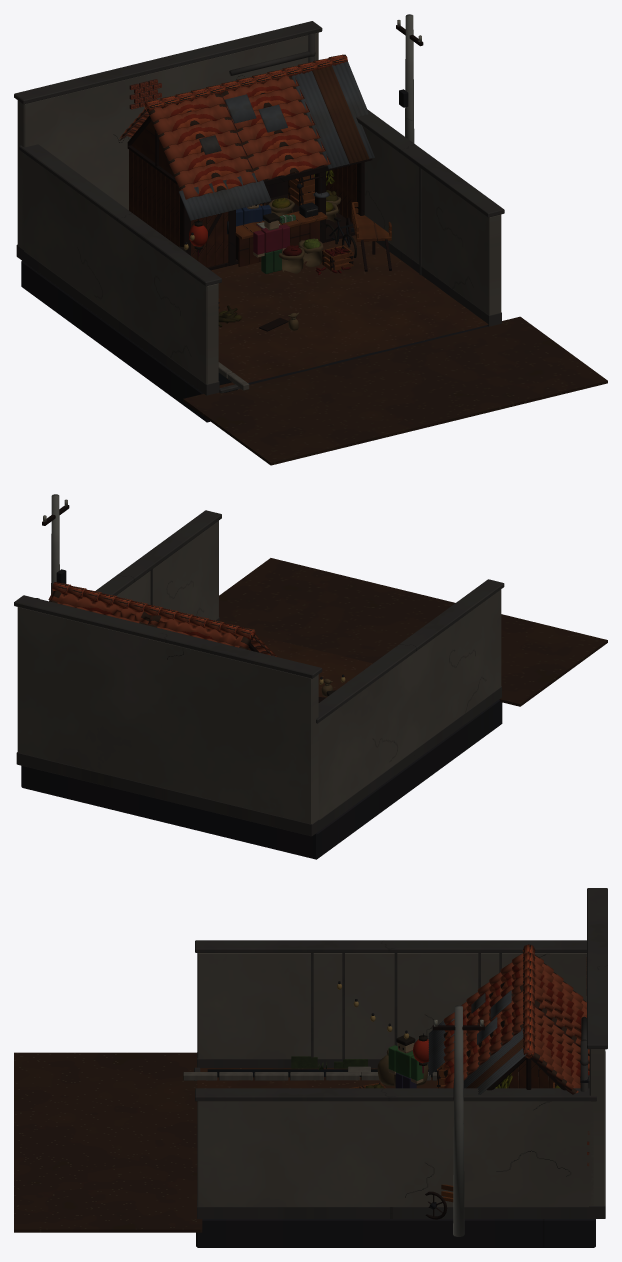
The model's file is TengkulakGelap.fbx.
3 renders of one model, top to bottom at view 1: azimuth 30°, elevation 25°; view 2: azimuth 150°, elevation 25°; view 3: azimuth 270°, elevation 25°, orthographic. The views are drawn at different scales.
Parts seen in each view (by area): view 1: Alley_Floor.001, G_Ground.001, G_WallWest.001, G_WallNorth.001, G_WallEast.001, G_Slab.001, G_WallNorth_cap.001, G_WallWest_cap.001, G_WallEast_cap.001, G_WallWest_grime.001, G_TileF5.001, G_TileF4.001 (+16 smaller); view 2: G_WallNorth.001, Alley_Floor.001, G_WallWest.001, G_Slab.001, G_WallEast.001, G_WallNorth_cap.001, G_WallNorth_grime.001, G_WallWest_cap.001, G_WallEast_cap.001, G_TileB0.001, G_Ground.001, G_WallWest_grime.001 (+1 smaller); view 3: G_WallEast.001, Alley_Floor.001, G_WallWest.001, G_Slab.001, G_WallEast_cap.001, G_WallWest_cap.001, G_WallEast_grime.001, G_WallNorth_cap.001, G_Pole.001, G_WallNorth.001, G_Ground.001, G_NPC_Lookout.001 (+17 smaller).
Boxes of the visible parts, x1,y1,x2,y2 form: Alley_Floor.001: (183, 316, 607, 465); G_Ground.001: (211, 235, 488, 387); G_WallWest.001: (22, 152, 218, 384); G_WallNorth.001: (17, 32, 318, 249); G_WallEast.001: (362, 125, 501, 315); G_Slab.001: (21, 261, 488, 422); G_WallNorth_cap.001: (14, 21, 322, 104); G_WallWest_cap.001: (19, 144, 221, 286); G_WallEast_cap.001: (356, 109, 504, 217); G_WallWest_grime.001: (23, 251, 219, 395); G_TileF5.001: (171, 139, 325, 187); G_TileF4.001: (166, 126, 320, 173); G_WallNorth.001: (17, 607, 318, 823); Alley_Floor.001: (219, 558, 607, 706); G_WallWest.001: (317, 589, 501, 819); G_Slab.001: (21, 699, 502, 859); G_WallEast.001: (116, 521, 218, 620); G_WallNorth_cap.001: (14, 595, 322, 678); G_WallNorth_grime.001: (16, 752, 319, 836); G_WallWest_cap.001: (316, 579, 504, 723); G_WallEast_cap.001: (95, 510, 221, 595); G_TileB0.001: (48, 590, 251, 648); G_Ground.001: (257, 635, 372, 697); G_WallWest_grime.001: (319, 686, 501, 830); G_WallEast.001: (197, 1101, 593, 1206); Alley_Floor.001: (14, 1052, 202, 1232); G_WallWest.001: (197, 953, 586, 1058); G_Slab.001: (196, 1219, 595, 1247); G_WallEast_cap.001: (195, 1088, 596, 1101); G_WallWest_cap.001: (195, 940, 586, 952); G_WallEast_grime.001: (197, 1200, 594, 1218); G_WallNorth_cap.001: (587, 888, 607, 1049); G_Pole.001: (453, 1005, 464, 1236); G_WallNorth.001: (589, 1049, 605, 1205); G_Ground.001: (197, 1068, 548, 1088); G_NPC_Lookout.001: (388, 1035, 423, 1088).
Size of the model in its own units: 41.52 by 27.05 by 56.75.
Materials: 37 (37 with a texture image).
